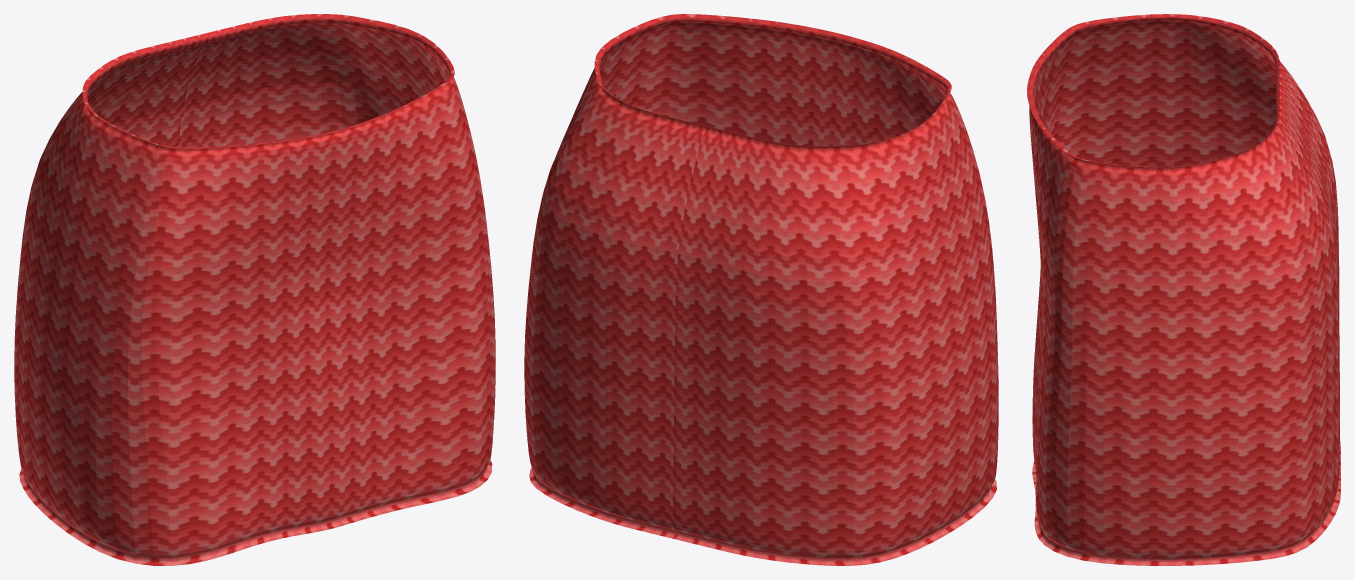
File: short_skirt_red.obj
3 renders of one model, left to right at view 1: azimuth 30°, elevation 25°; view 2: azimuth 150°, elevation 25°; view 3: azimuth 270°, elevation 25°, orthographic. The views are drawn at different scales.
Parts seen in each view (by area): view 1: A3skirt01; view 2: A3skirt01; view 3: A3skirt01.
Boxes of the visible parts, <box> form: A3skirt01: <box>14,14,495,565</box>; A3skirt01: <box>524,14,998,565</box>; A3skirt01: <box>1027,14,1340,565</box>.
Size of the model in its own units: 0.2646 by 0.2456 by 0.1815.
Materials: 1 (1 with a texture image).
